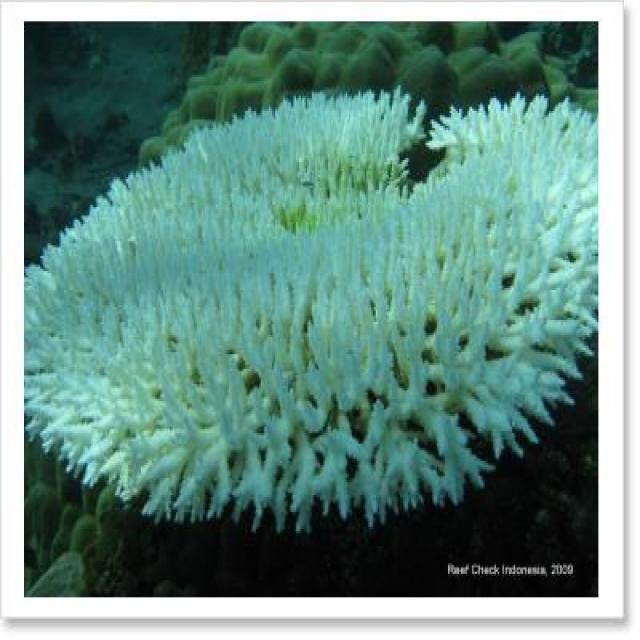Bleached: (29, 88, 596, 531)
